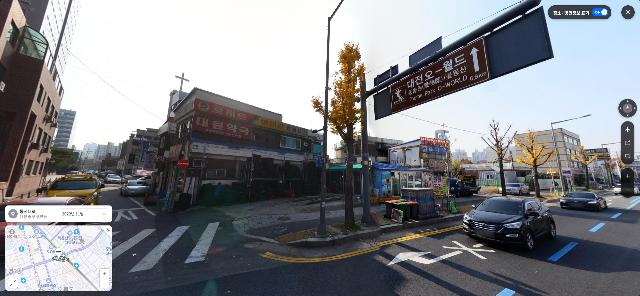ginkgo: (310, 41, 365, 231), (512, 130, 556, 199), (567, 140, 602, 191), (605, 160, 621, 188), (451, 159, 464, 175)
other: (481, 119, 519, 196), (428, 139, 464, 215)
